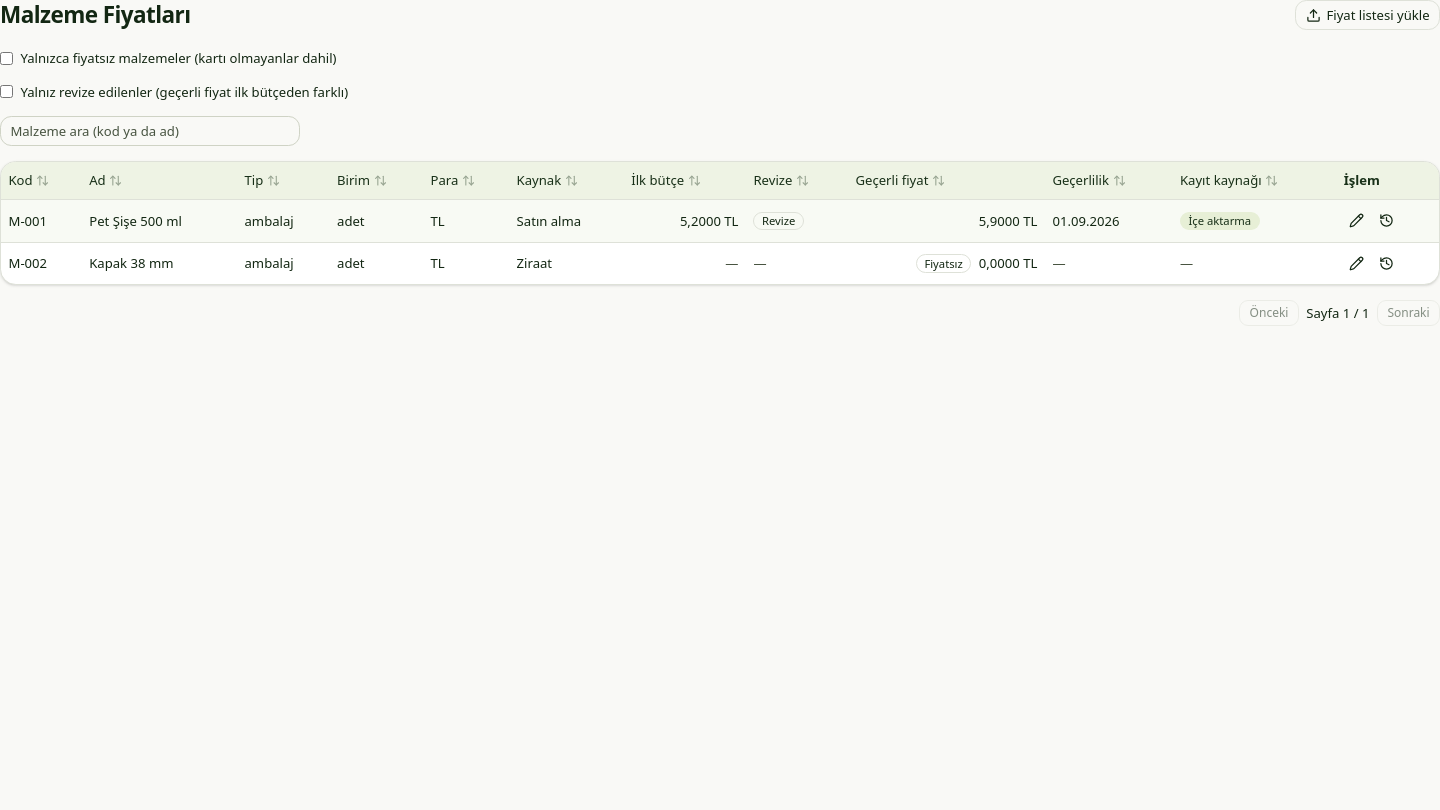
Test: MalzemeFiyatlari › fiyat ekler: bugünün tarihi, neden, özet; sonra başarı mesajı
The image size is (1440, 810).
Click the button named "Fiyat değiştir M-001": (1357, 221) x1=1344 y1=208 x2=1370 y2=234
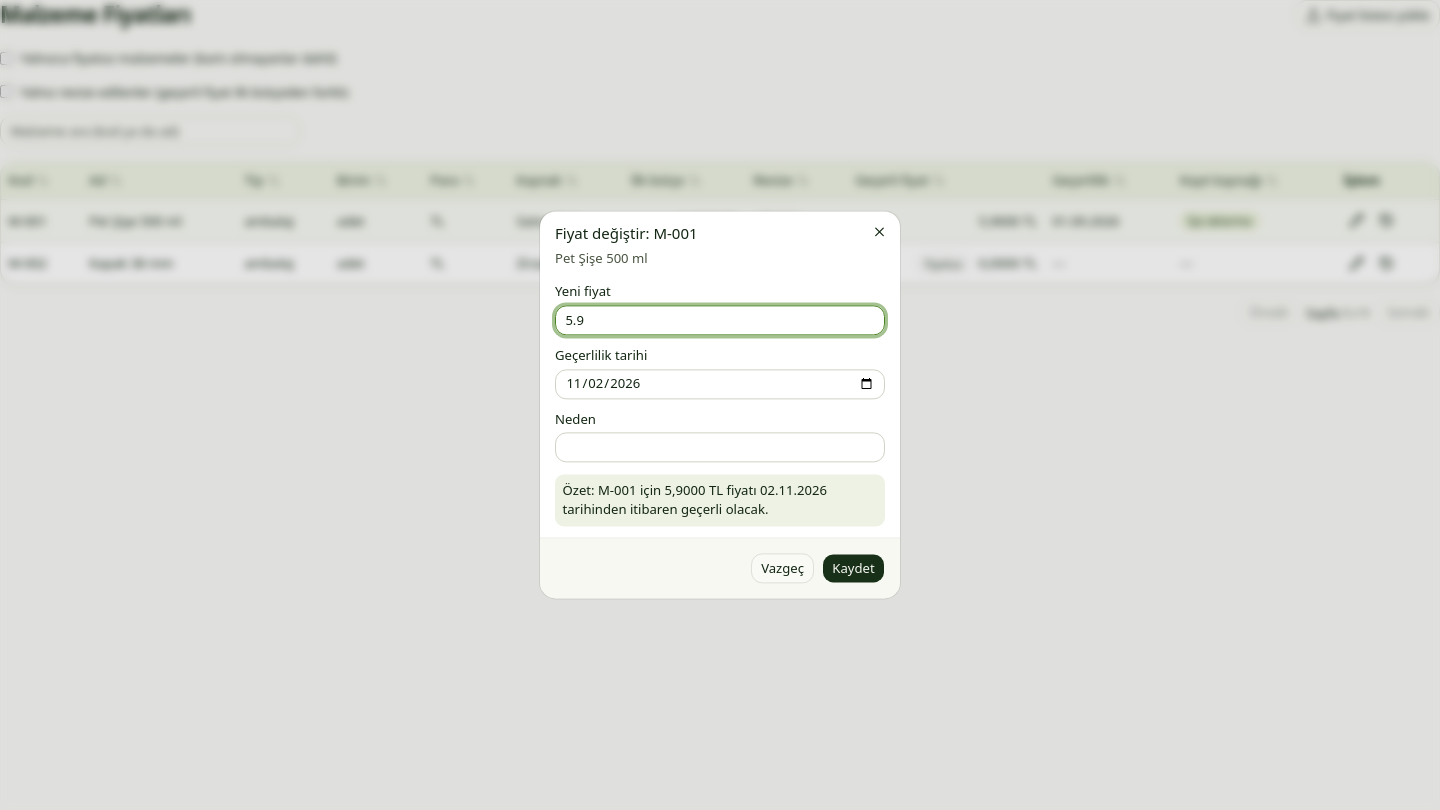
Clear the field labelled "Yeni fiyat": (720, 320) x1=555 y1=305 x2=885 y2=335
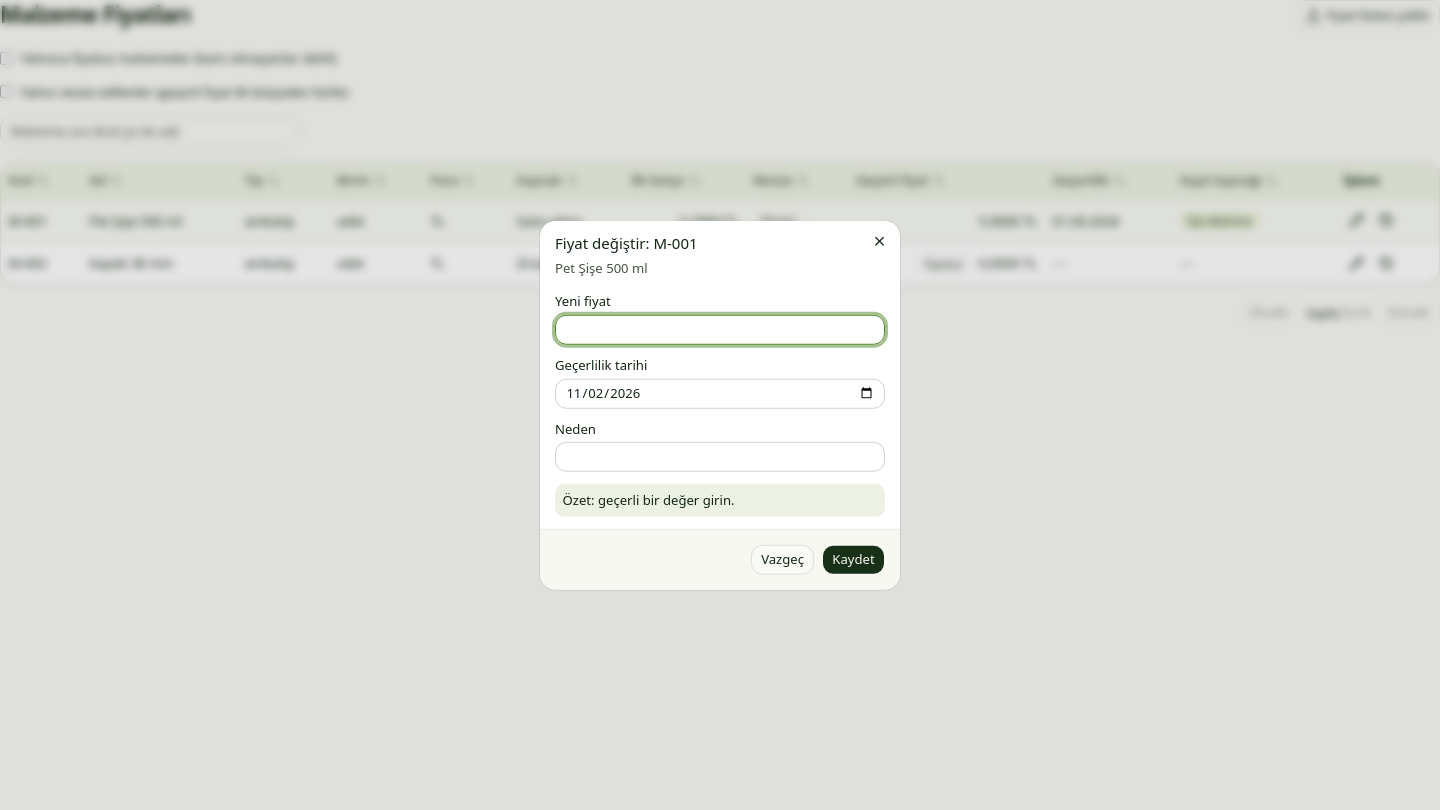
In the field labelled "Yeni fiyat": (720, 330) x1=555 y1=314 x2=885 y2=344, type "6,5"
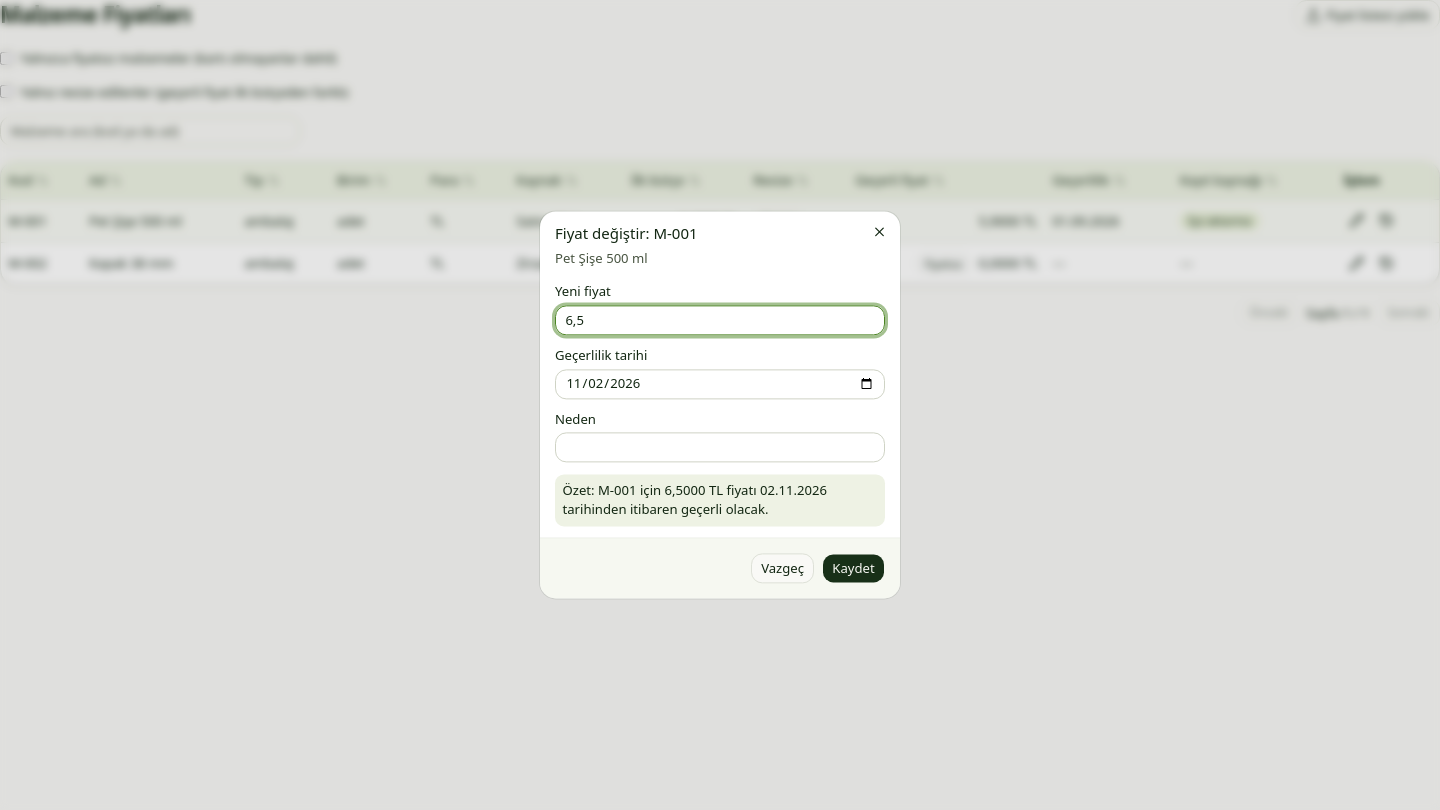
In the field labelled "Neden": (720, 448) x1=555 y1=433 x2=885 y2=463, type "Yeni liste"
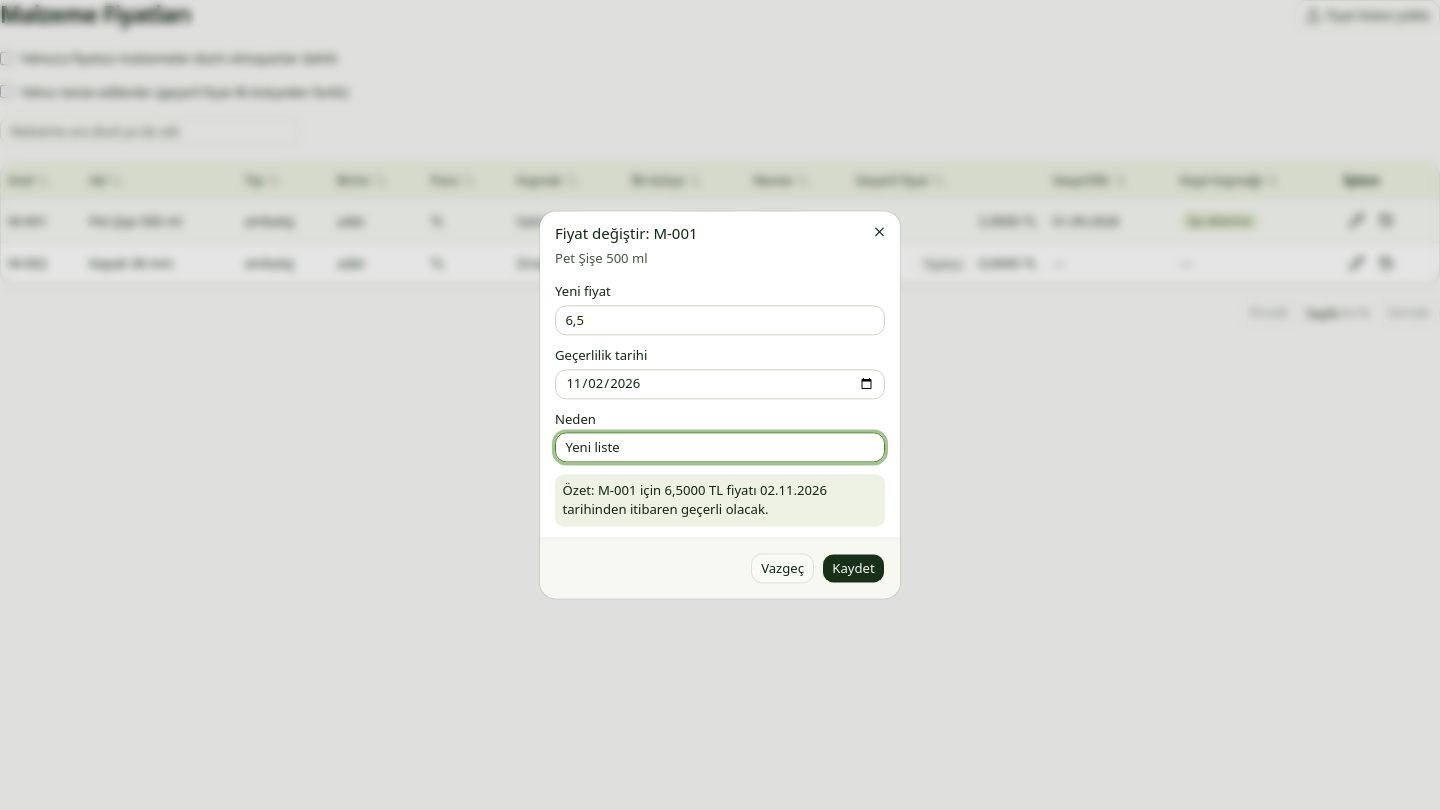
Click the button "Kaydet": (853, 569) x1=822 y1=554 x2=885 y2=584
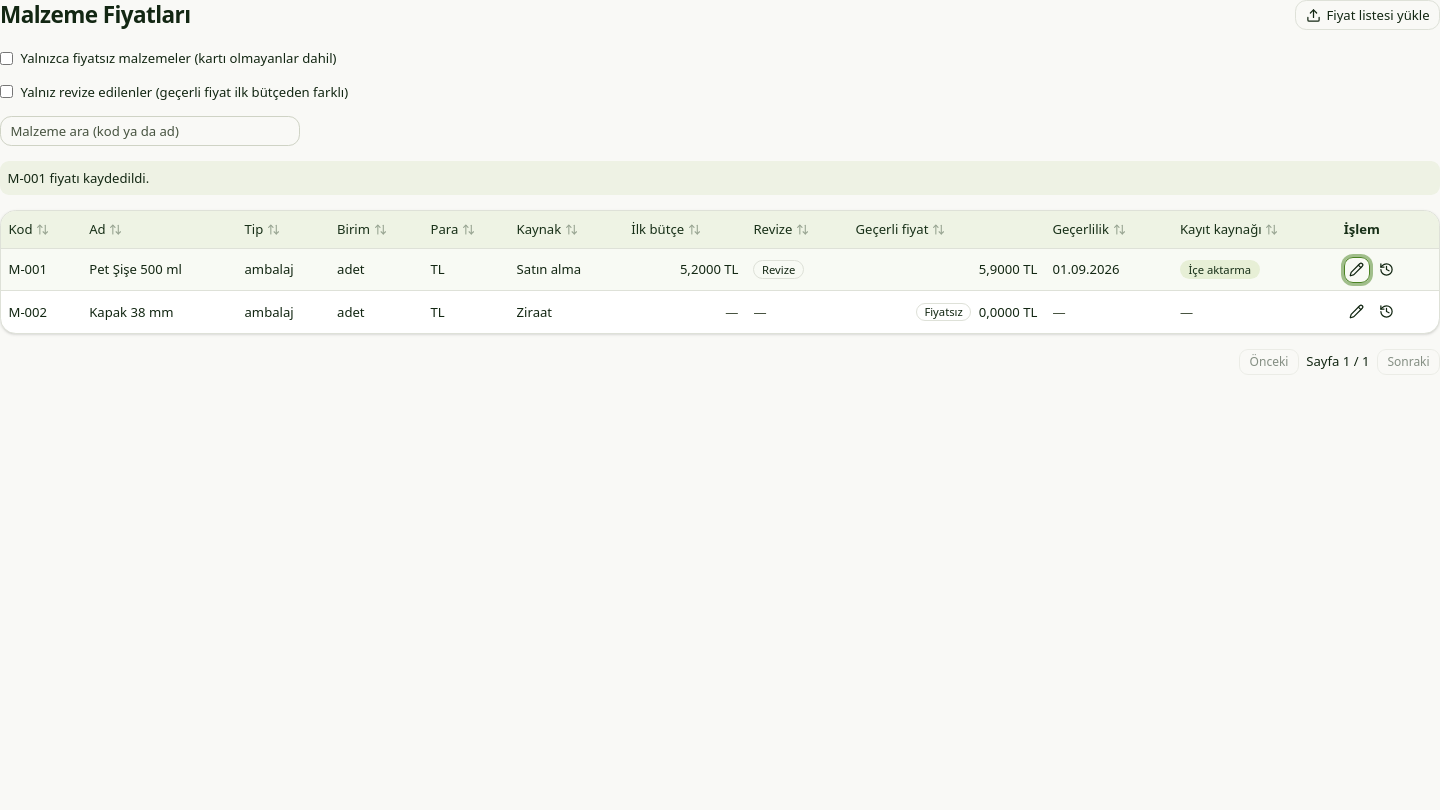
Now the message shows "M-001 fiyatı kaydedildi", box x1=8 y1=169 x2=149 y2=187
